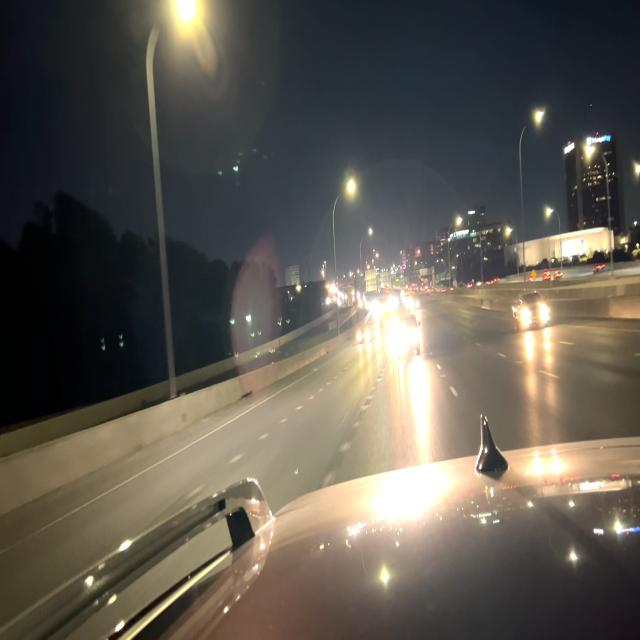back-of-sign: (365, 265, 392, 293)
